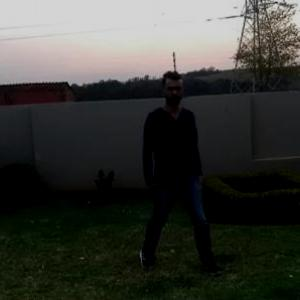follow: (128, 69, 195, 277)
